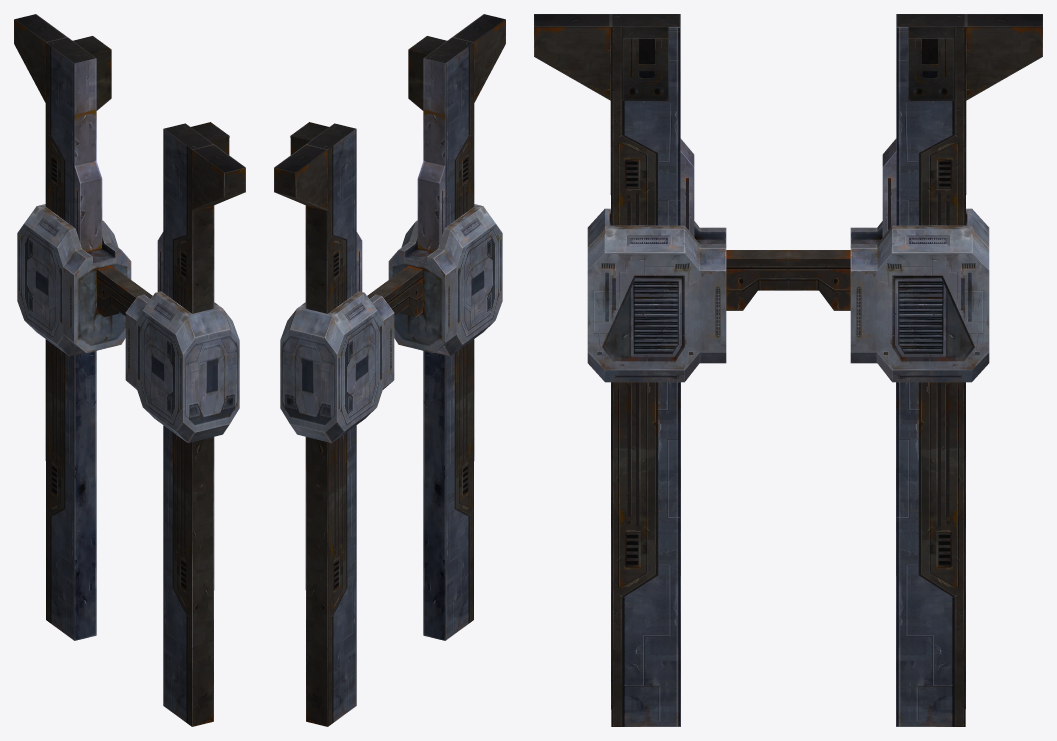
Rendered from all_arch_imp_bridge_support.glb.
The picture shows the model from 3 angles, left to right: view 1: azimuth 30°, elevation 25°; view 2: azimuth 150°, elevation 25°; view 3: azimuth 270°, elevation 25°; orthographic projection. The views are drawn at different scales.
Visible parts, largest first — view 1: all_arch_imp_bridge_support; view 2: all_arch_imp_bridge_support; view 3: all_arch_imp_bridge_support.
Boxes of the visible parts, x1,y1,x2,y2 form: all_arch_imp_bridge_support: (14, 14, 245, 726); all_arch_imp_bridge_support: (274, 14, 505, 726); all_arch_imp_bridge_support: (534, 14, 1042, 726).
Size of the model in its own units: 0.1933 by 1.74 by 1.15.
Materials: 1 (1 with a texture image).
